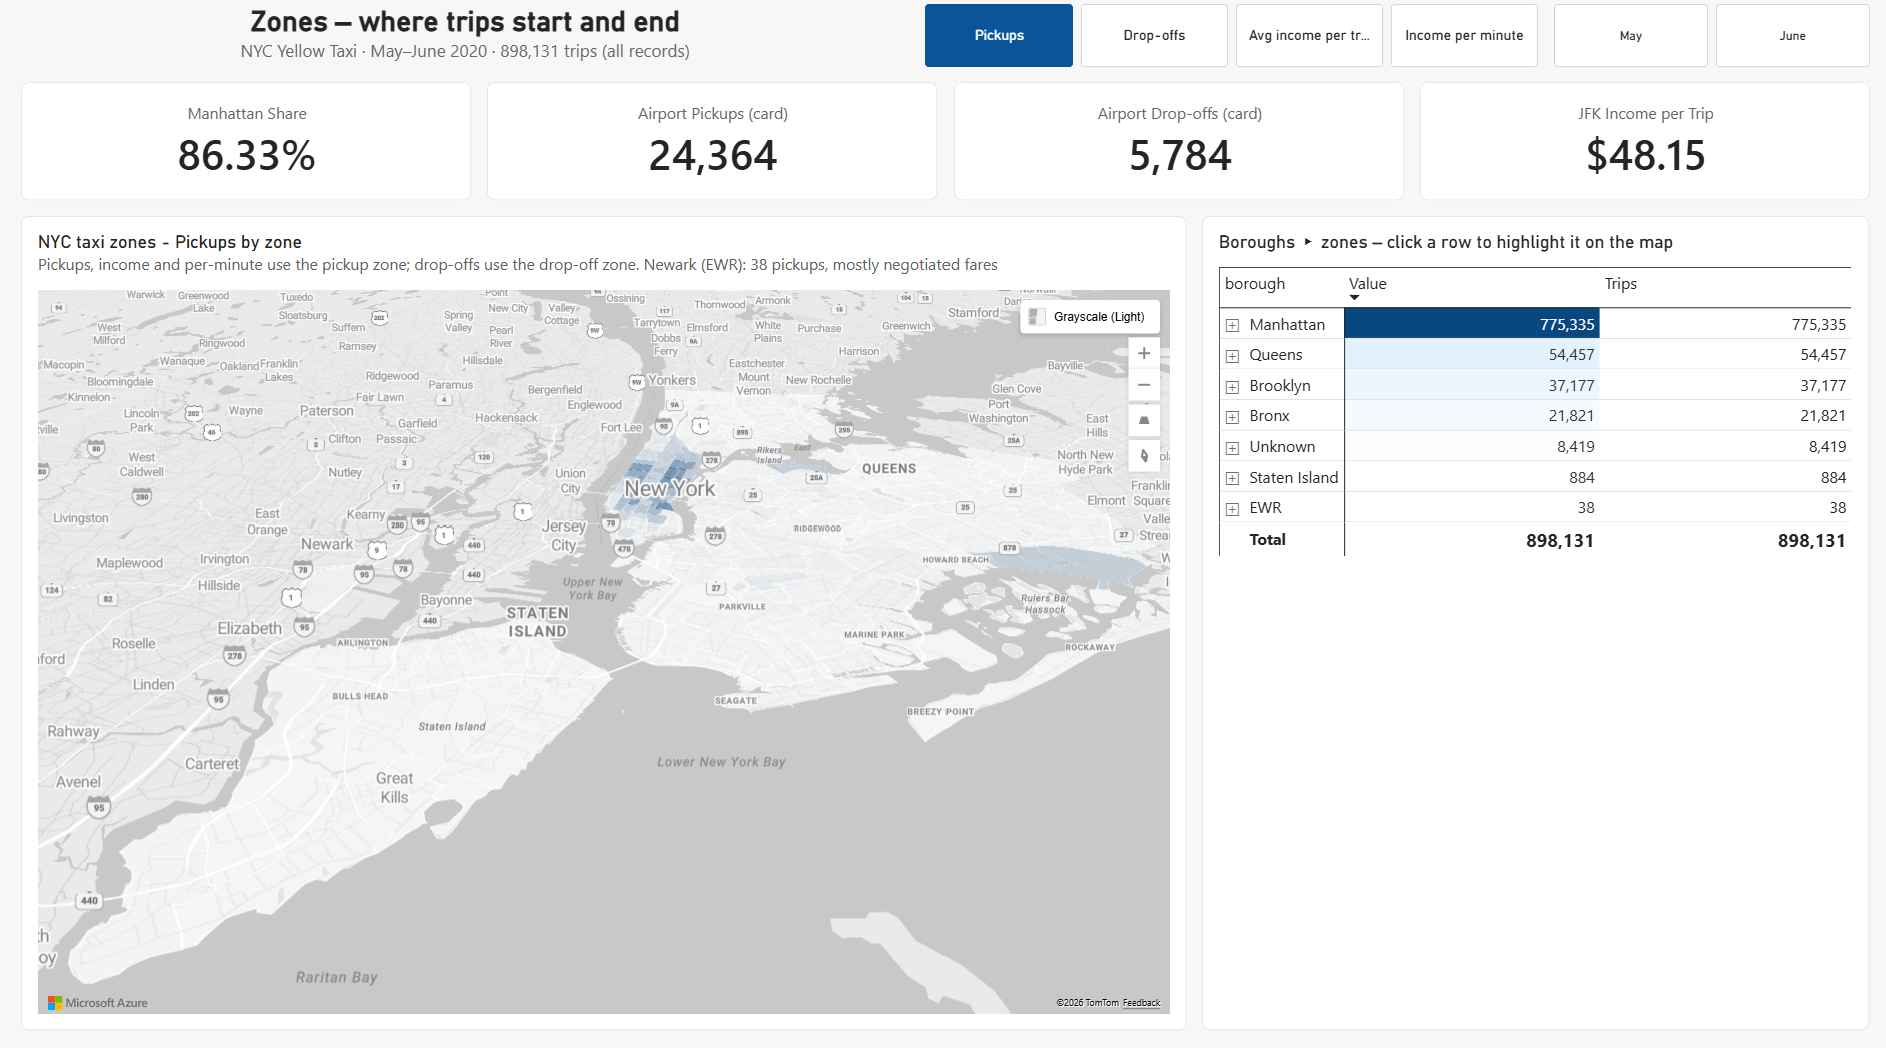

This screenshot's page, from the dashboard's own definition file:
{"tool":"powerbi","page":{"name":"Zones","canvas":[1920,1080],"ordinal":2},"visuals":[{"type":"textbox","title":"Zones – where trips start and end","box":[24,16,900,64],"z":0},{"type":"advancedSlicerVisual","fields":{"Values":["dim_date.month"]},"box":[1576,16,320,64],"z":1000},{"type":"advancedSlicerVisual","fields":{"Values":["Metric.Metric"]},"box":[940,16,620,64],"z":2000},{"type":"cardVisual","fields":{"Data":["_measures.Manhattan Share"]},"box":[24,96,456,120],"z":3000},{"type":"cardVisual","fields":{"Data":["_measures.Airport Pickups (card)"]},"box":[496,96,456,120],"z":4000},{"type":"cardVisual","fields":{"Data":["_measures.Airport Drop-offs (card)"]},"box":[968,96,456,120],"z":5000},{"type":"cardVisual","fields":{"Data":["_measures.JFK Income per Trip"]},"box":[1440,96,456,120],"z":6000},{"type":"azureMap","fields":{"Category":["dim_zone.locationID"]},"box":[24,232,1180,824],"z":7000},{"type":"pivotTable","title":"Boroughs ▸ zones – click a row to highlight it on the map","fields":{"Rows":["dim_zone.borough","dim_zone.zone"],"Values":["_measures.Selected Metric","_measures.Trips"]},"box":[1220,232,676,824],"z":8000}]}

Visuals, with their boxes in screenshot pixels (x1, y1, x2, y2), scaled from the page's 1920x1080 canvas onto the 1886x1048 screenshot:
"Zones – where trips start and end" textbox: crop(24, 16, 908, 78)
advancedSlicerVisual - dim_date.month: crop(1548, 16, 1862, 78)
advancedSlicerVisual - Metric.Metric: crop(923, 16, 1532, 78)
cardVisual - _measures.Manhattan Share: crop(24, 93, 472, 210)
cardVisual - _measures.Airport Pickups (card): crop(487, 93, 935, 210)
cardVisual - _measures.Airport Drop-offs (card): crop(951, 93, 1399, 210)
cardVisual - _measures.JFK Income per Trip: crop(1414, 93, 1862, 210)
azureMap - dim_zone.locationID: crop(24, 225, 1183, 1025)
"Boroughs ▸ zones – click a row to highlight it on the map" pivotTable: crop(1198, 225, 1862, 1025)
